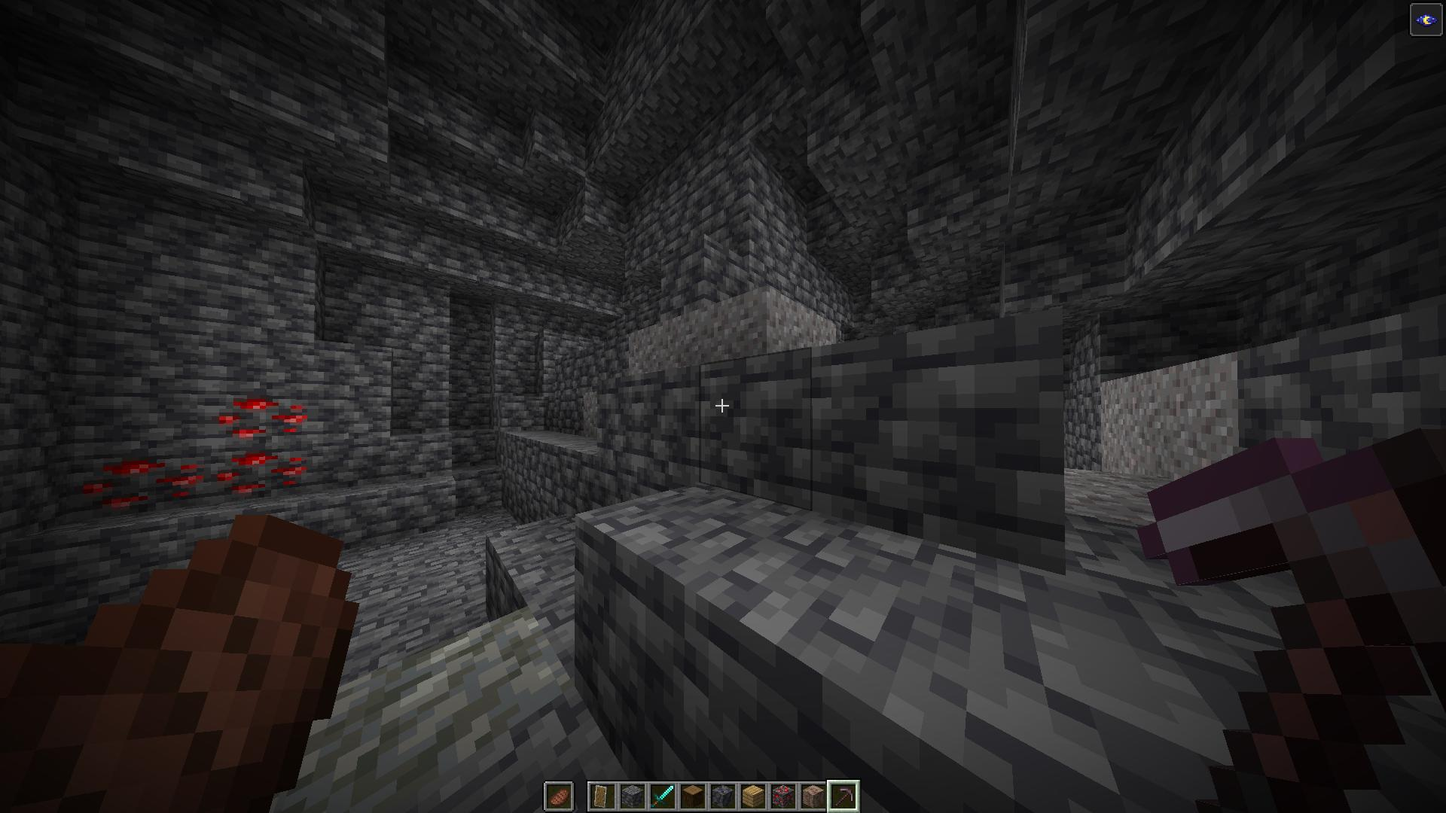redstone ore: (67, 451, 219, 511), (216, 399, 272, 446), (215, 448, 270, 494), (271, 398, 316, 447), (265, 450, 314, 489)
